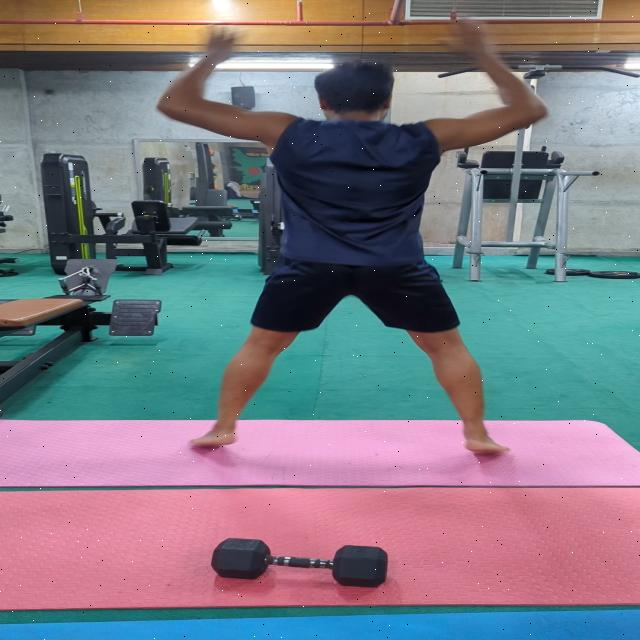Normal_JumpingJacks: (125, 9, 547, 459)
